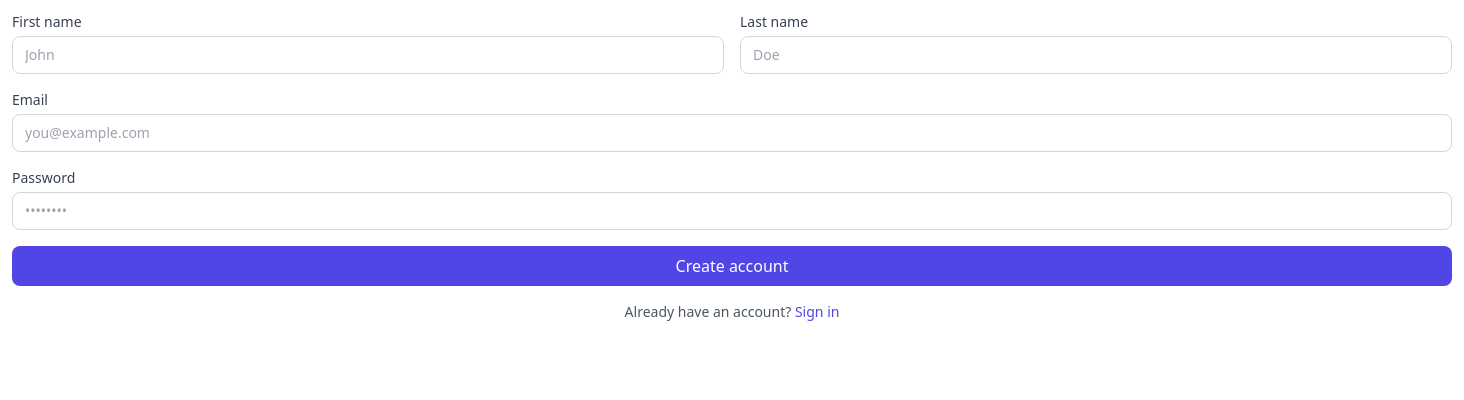
Scenario: RegisterForm › shows success message after successful registration
The width and height of the screenshot is (1464, 400).
Type "john@example.com" into the field labelled "Email".
click(732, 133); type("john@example.com")  # box [12, 114, 1452, 152]
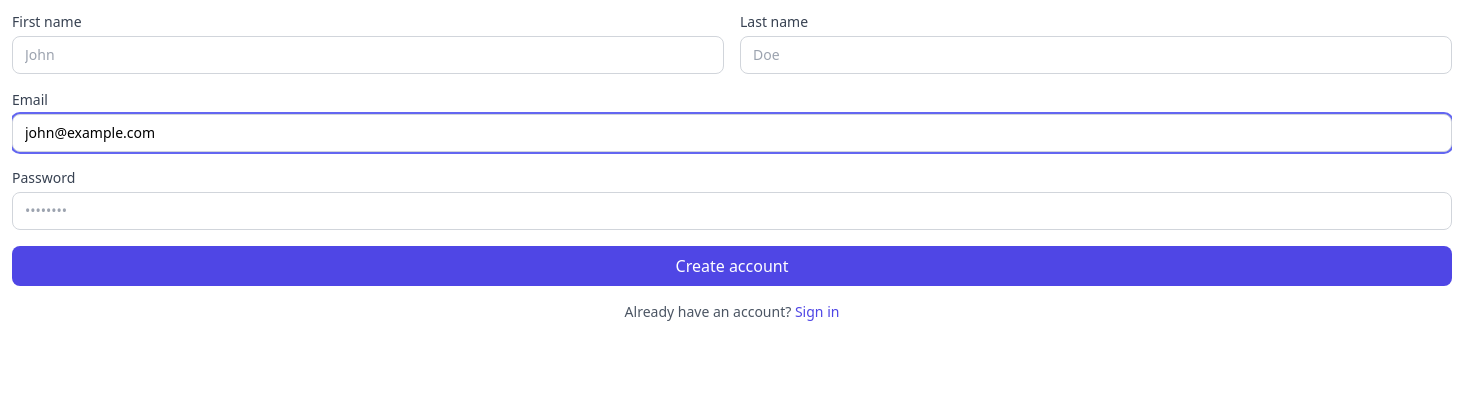
Type "password123" into the password field labelled "Password".
click(732, 211); type("password123")  # box [12, 192, 1452, 230]
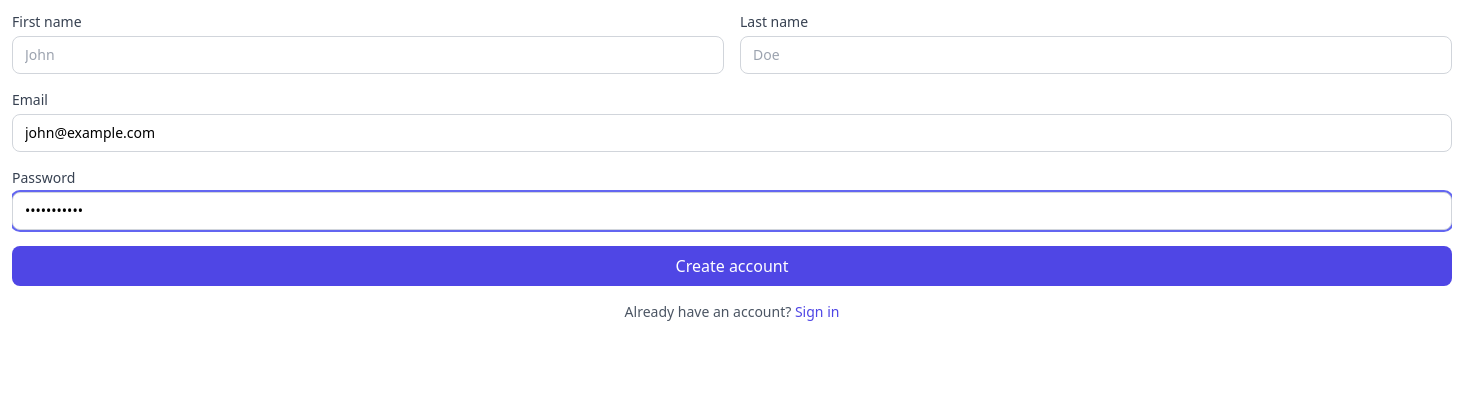
Click the button "Create account".
click(732, 266)  # box [12, 246, 1452, 286]
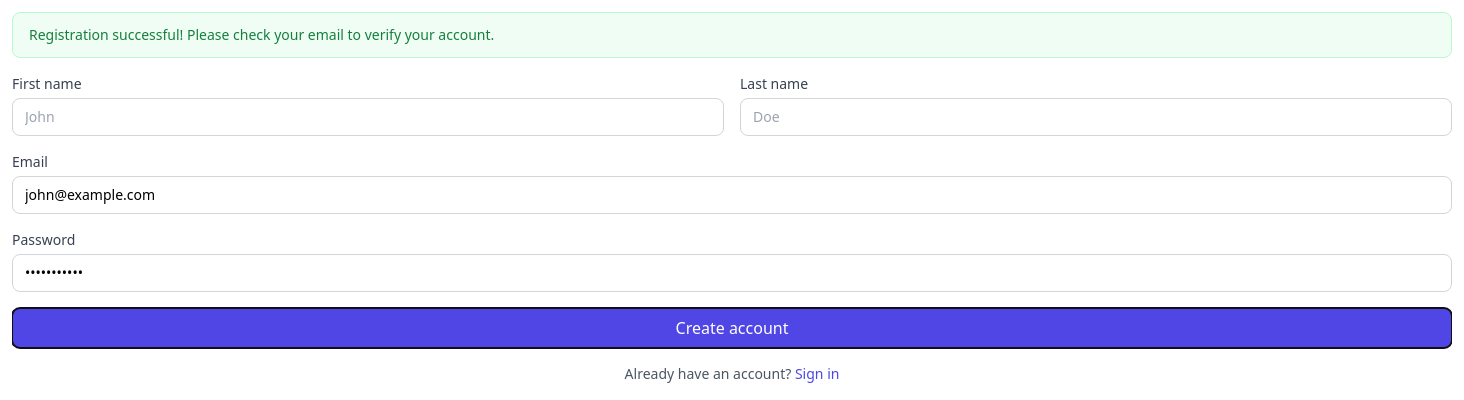
expect the text "Registration successful" is shown: met, box [29, 25, 494, 44]
